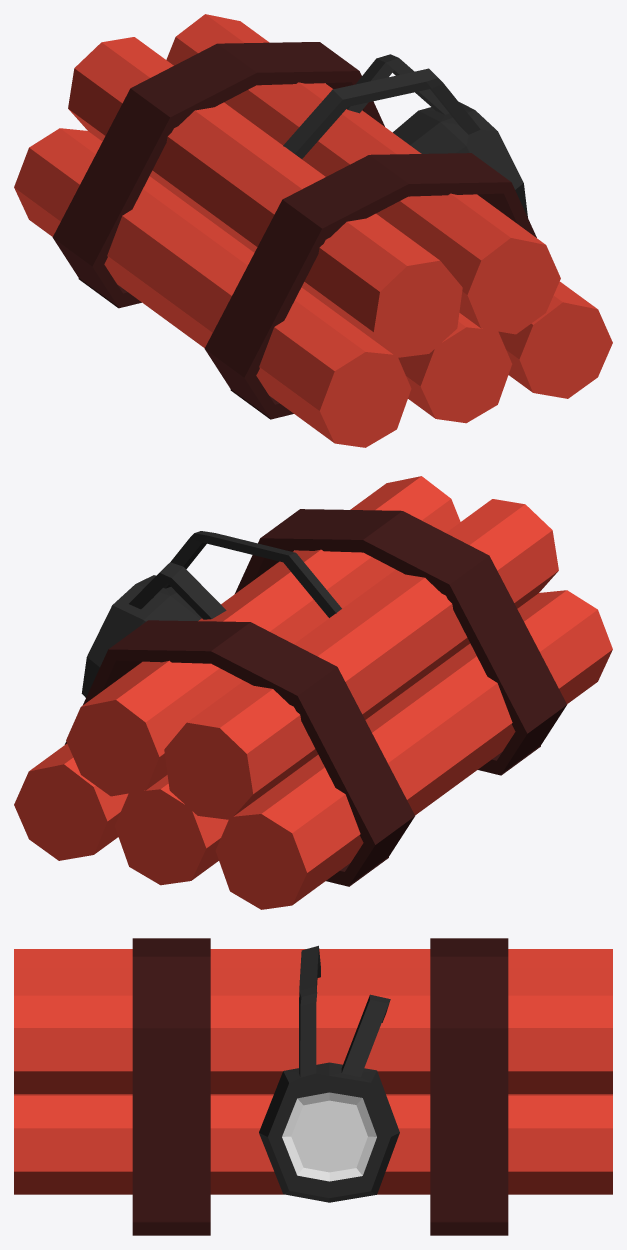
Rendered from bomb.fbx.
The picture shows the model from 3 angles, top to bottom: view 1: azimuth 30°, elevation 25°; view 2: azimuth 150°, elevation 25°; view 3: azimuth 270°, elevation 25°; orthographic projection. The views are drawn at different scales.
Visible parts, largest first — view 1: bomb; view 2: bomb; view 3: bomb.
Boxes of the visible parts, x1=… form: bomb: x1=14, y1=14, x2=612, y2=447; bomb: x1=14, y1=476, x2=612, y2=909; bomb: x1=14, y1=938, x2=612, y2=1235.
Bounding box in the file's own units: 52.99 × 30.76 × 76.71.
